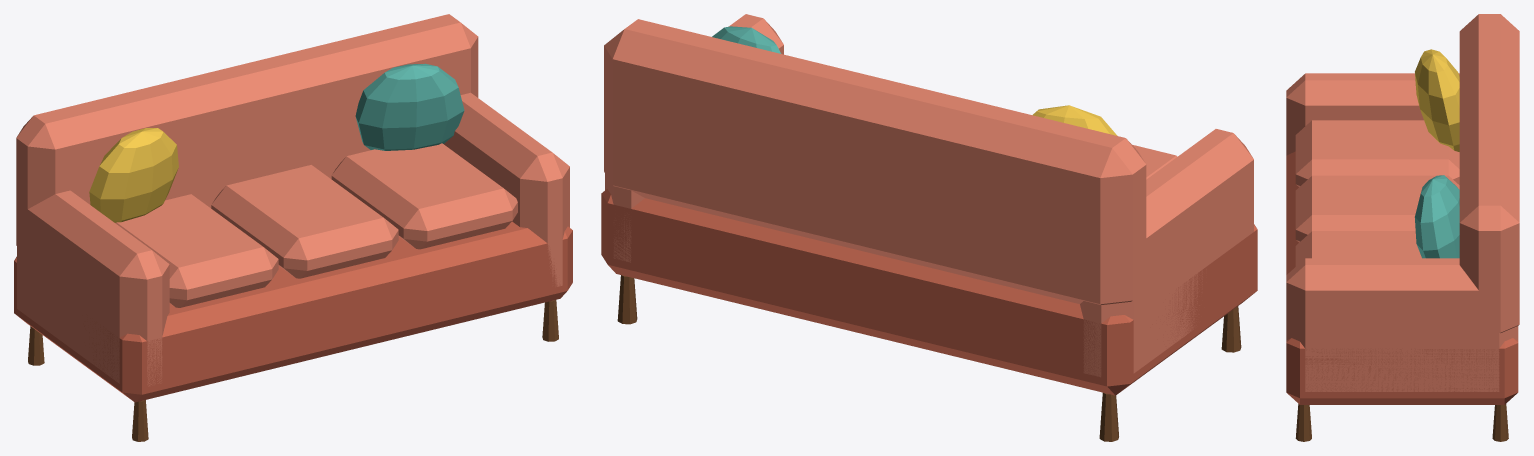
The model's file is home_sofa_v01.glb.
The picture shows the model from 3 angles, left to right: view 1: azimuth 30°, elevation 25°; view 2: azimuth 150°, elevation 25°; view 3: azimuth 270°, elevation 25°; orthographic projection. The views are drawn at different scales.
Parts seen in each view (by area): view 1: sofa; view 2: sofa; view 3: sofa.
Boxes of the visible parts, box(x1,y1,x2,y2) form: sofa: box(14, 14, 572, 441); sofa: box(601, 14, 1257, 441); sofa: box(1286, 14, 1519, 441).
Size of the model in its own units: 1.8 by 0.945 by 0.855.
